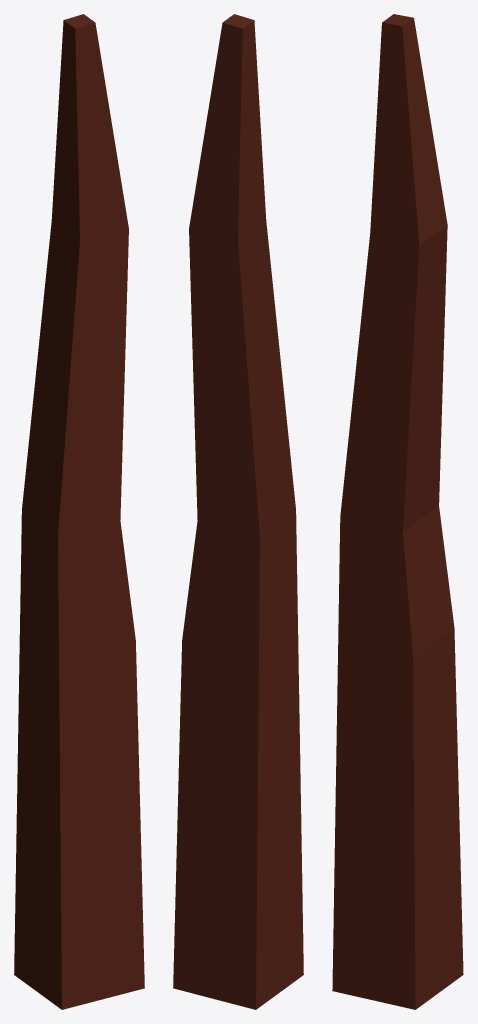
Rendered from tree_6a.fbx.
The picture shows the model from 3 angles, left to right: view 1: azimuth 30°, elevation 25°; view 2: azimuth 150°, elevation 25°; view 3: azimuth 330°, elevation 25°; orthographic projection.
Parts seen in each view (by area): view 1: tree_6a; view 2: tree_6a; view 3: tree_6a.
Part boxes in pixels (x1,y1,x2,y2): tree_6a: [14, 14, 144, 1009]; tree_6a: [173, 14, 303, 1009]; tree_6a: [332, 14, 463, 1009].
Size of the model in its own units: 49.99 by 554 by 50.
